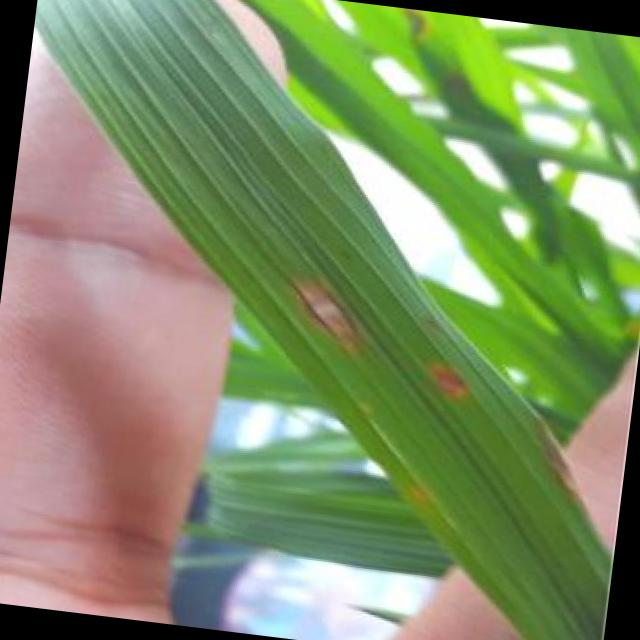Rice_Blast: (262, 239, 370, 359), (391, 332, 508, 442)
